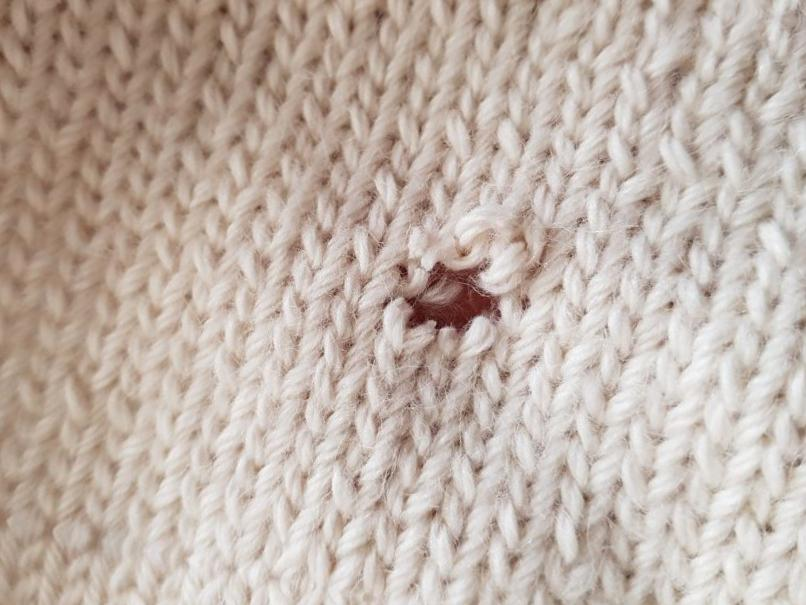hole: (395, 255, 512, 349)
